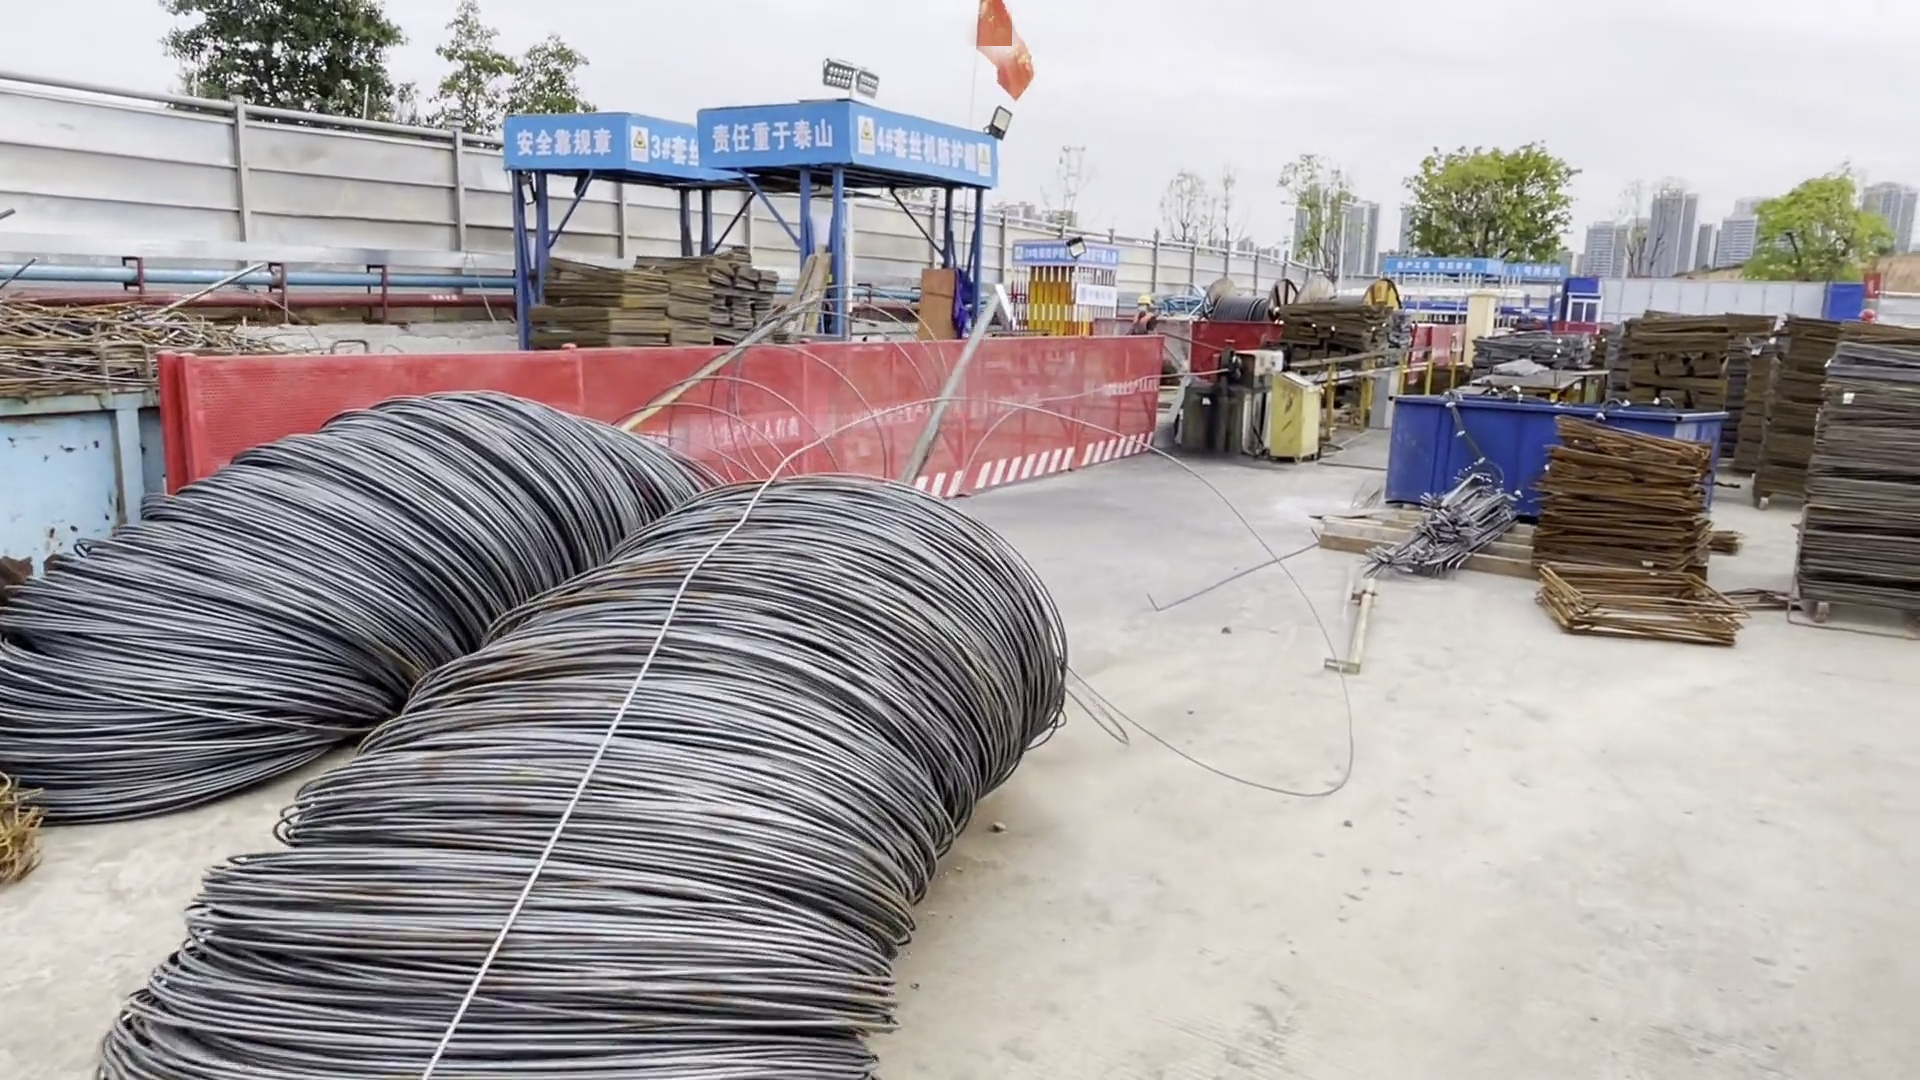ebox: (1463, 294, 1495, 360)
fence: (140, 336, 1171, 481)
helmet: (1138, 294, 1149, 302)
hopper: (1372, 388, 1717, 511), (1, 385, 167, 555)
person: (1136, 295, 1157, 337)
rebar: (1376, 482, 1516, 564)
slogan: (702, 117, 985, 171), (512, 122, 690, 167), (1387, 257, 1558, 280), (1015, 241, 1115, 261)
